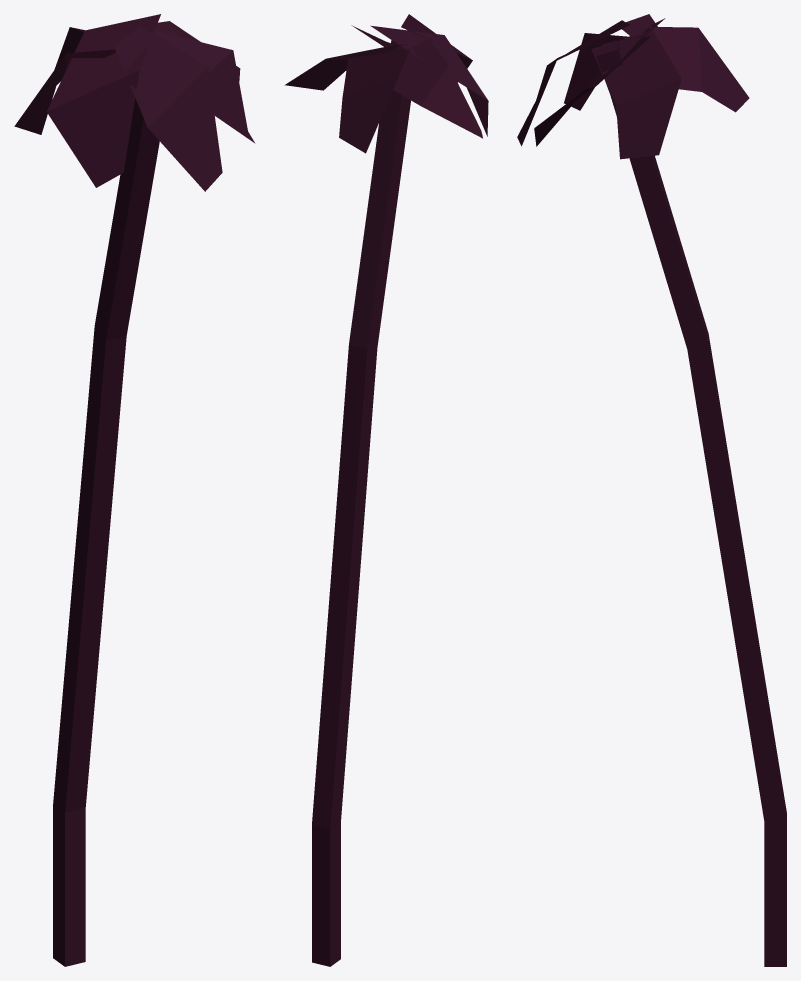
3 renders of one model, left to right at view 1: azimuth 30°, elevation 25°; view 2: azimuth 150°, elevation 25°; view 3: azimuth 270°, elevation 25°, orthographic. The views are drawn at different scales.
Visible parts, largest first — view 1: palm_tree_0001; view 2: palm_tree_0001; view 3: palm_tree_0001.
Part boxes in pixels (box(x1,y1,x2,y2)): palm_tree_0001: box(14, 14, 255, 966); palm_tree_0001: box(284, 14, 488, 966); palm_tree_0001: box(517, 14, 786, 966).
Size of the model in its own units: 21.69 by 91.62 by 23.97.
